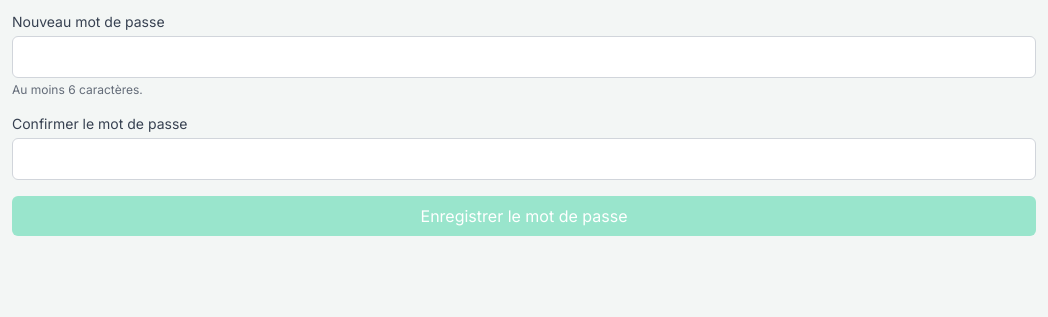
NewPasswordForm › refuse un mot de passe trop court
Type "abc" into the password field labelled "Nouveau mot de passe" at (524, 57), box [12,36,1036,78]
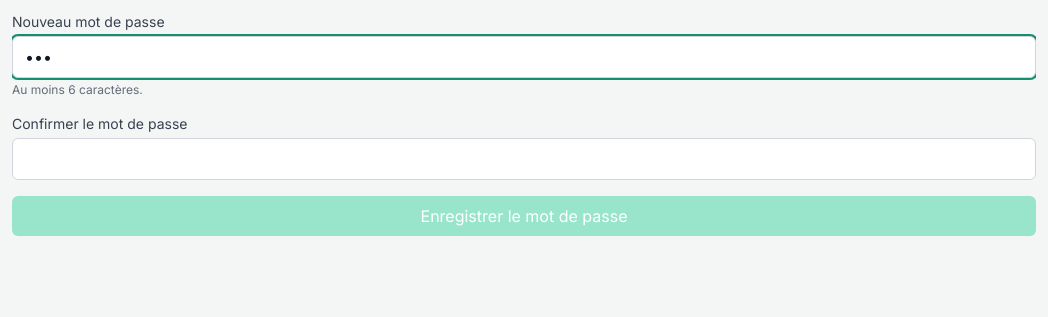
Type "abc" into the password field labelled "Confirmer le mot de passe" at (524, 159), box [12,138,1036,180]
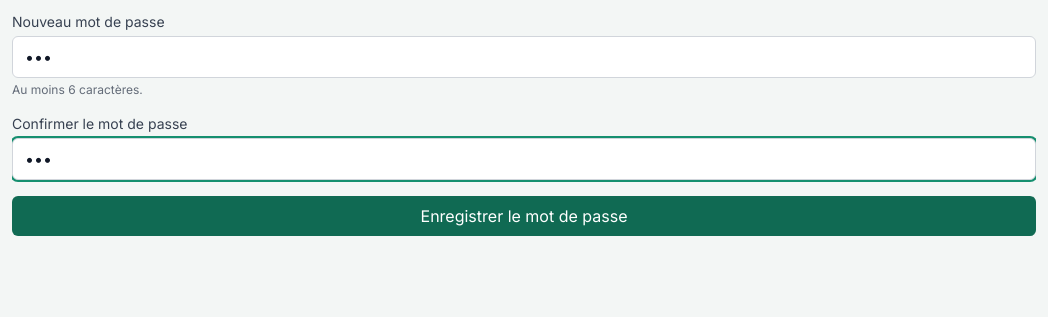
Click the button "Enregistrer le mot de passe" at (524, 216), box [12,196,1036,236]
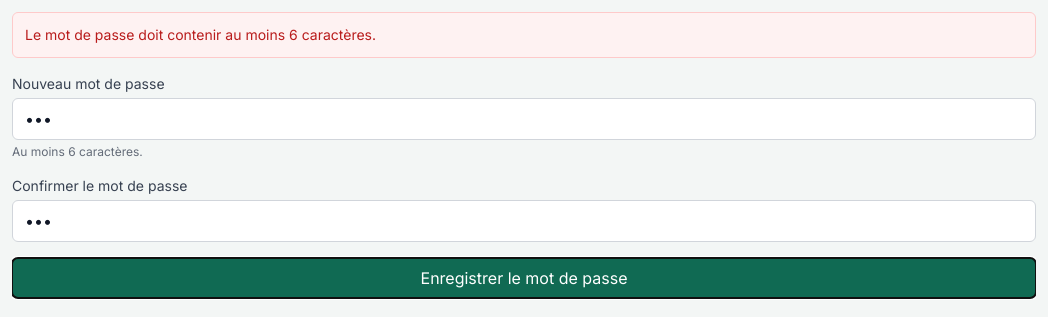
Expected: the message shows "au moins 6 caractères", [25,26,376,43]
